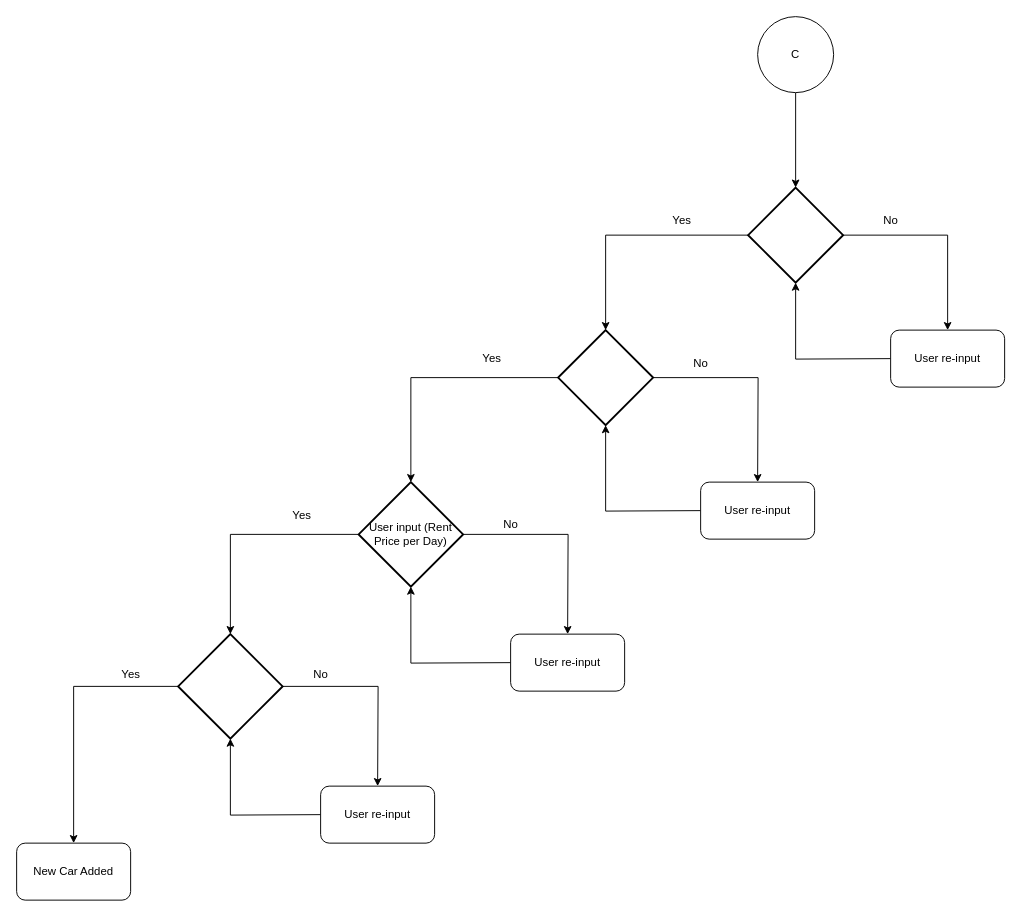
Image size: 1021x917. Some labels were removed from this diagram. The shapes that lost their labels are listed below. From the top down, each one's centre as x and y in pixels, then its label:
the point at 795,234: User input (Car Name)
the point at 605,377: User input (License Plate Type)
the point at 230,686: User input (The Car's Quantity)
